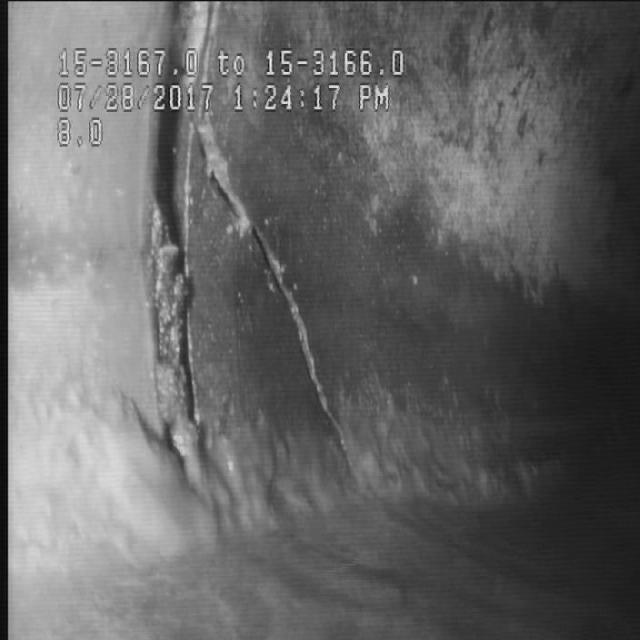Crack: (210, 148, 336, 398)
